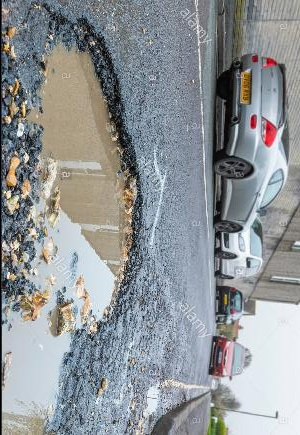pothole: (16, 13, 148, 341), (0, 281, 81, 434), (144, 382, 163, 416)
